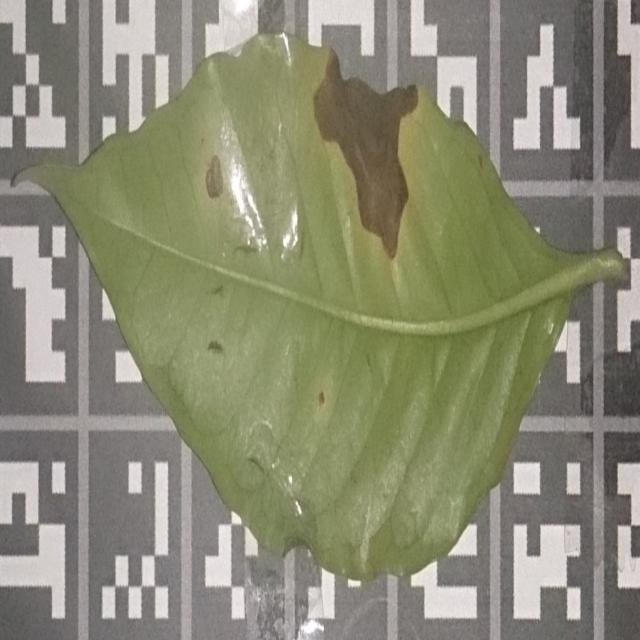Enfermedad-Mancha-de-hierro: (16, 32, 631, 584)
